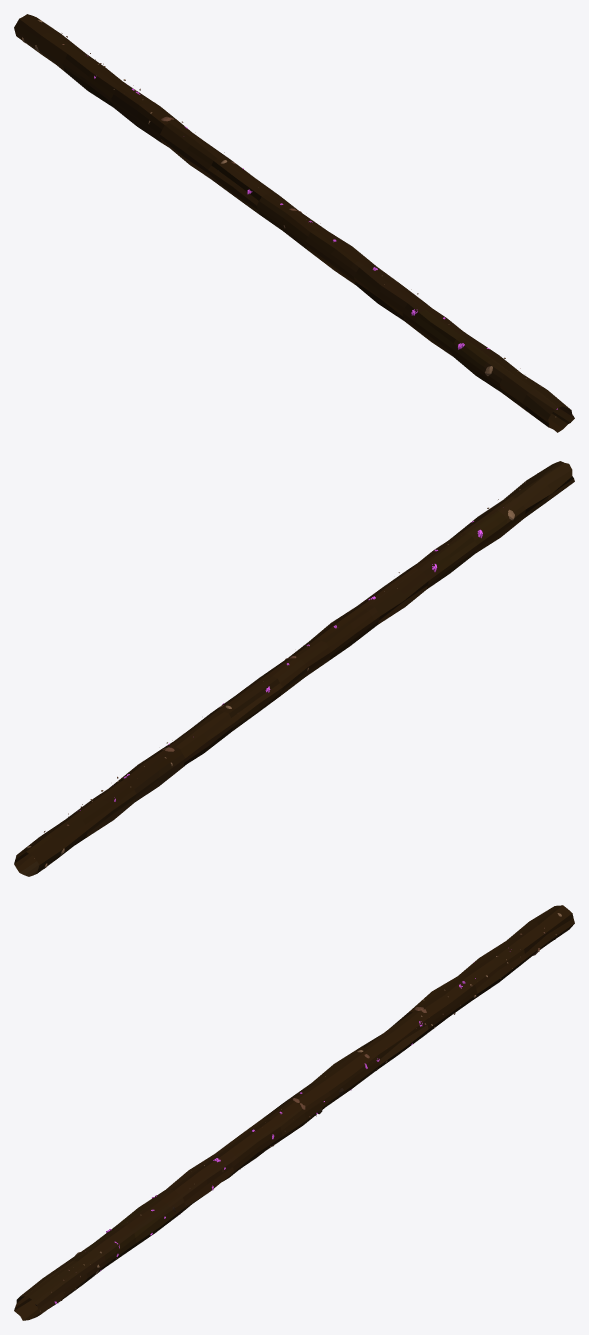
File: rocky-alien-level-m2.glb
3 views of the same model, one above another, from view 1: azimuth 30°, elevation 25°; view 2: azimuth 150°, elevation 25°; view 3: azimuth 330°, elevation 25° (orthographic).
Parts seen in each view (by area): view 1: mine.001; view 2: mine.001; view 3: mine.001.
Part boxes in pixels (x1,y1,x2,y2): mine.001: (14, 14, 574, 432); mine.001: (14, 461, 574, 876); mine.001: (14, 905, 574, 1320).
Bounding box in the file's own units: 33.69 × 27.29 × 999.
Materials: 6 (6 with a texture image).
